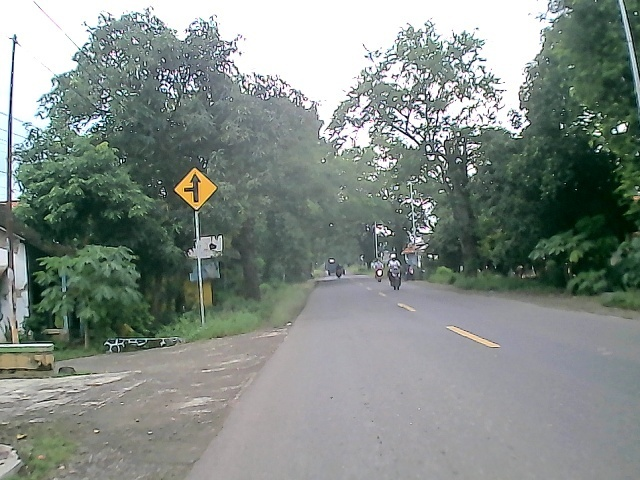Simpang kiri dengan prioritas: (172, 166, 219, 212)
